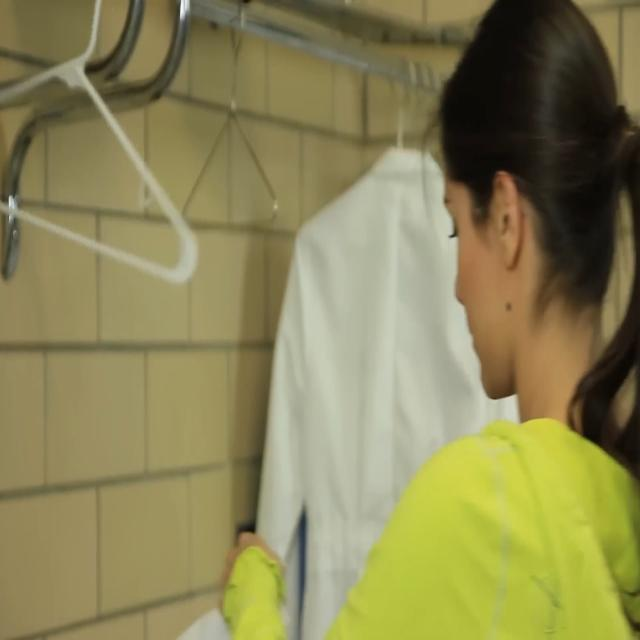labcoat: (253, 134, 541, 640)
